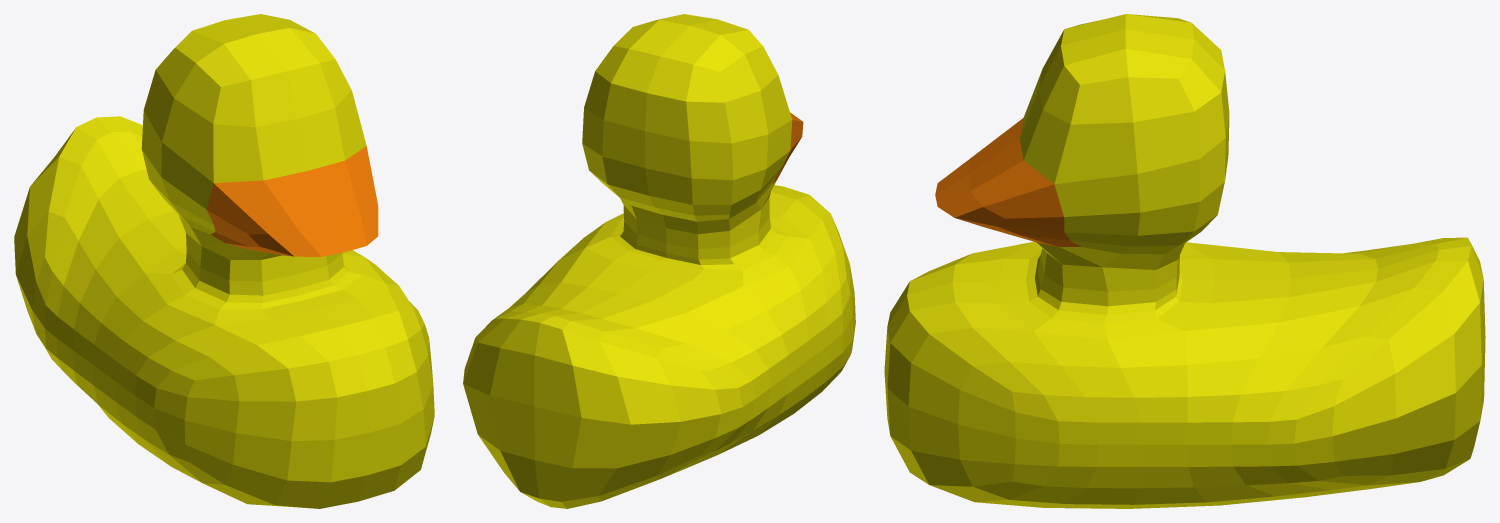
File: Rubber Duck No Eyes Low Poly.fbx
The picture shows the model from 3 angles, left to right: view 1: azimuth 30°, elevation 25°; view 2: azimuth 150°, elevation 25°; view 3: azimuth 270°, elevation 25°; orthographic projection. The views are drawn at different scales.
Parts seen in each view (by area): view 1: Cube; view 2: Cube; view 3: Cube.
Part boxes in pixels (bbox=[...]): Cube: bbox=[14, 14, 434, 508]; Cube: bbox=[463, 14, 855, 508]; Cube: bbox=[884, 14, 1485, 508].
Bounding box in the file's own units: 321 × 465 × 573.
